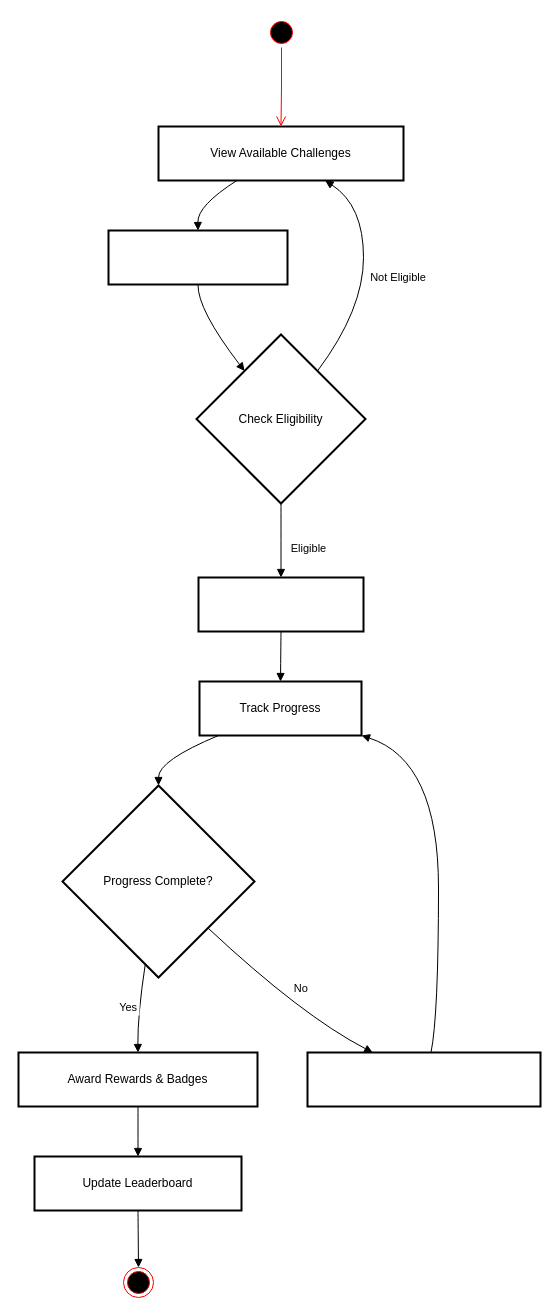
Some shapes in this 558 by 1315 pixel diagram are drawn without their labels. The shapes that lost their labels are listed below. From the top down, each one's centre as x and y in pixels, then its label:
point (197, 257): Select Challenge
point (280, 604): Join Challenge
point (423, 1079): View Challenge Progress
